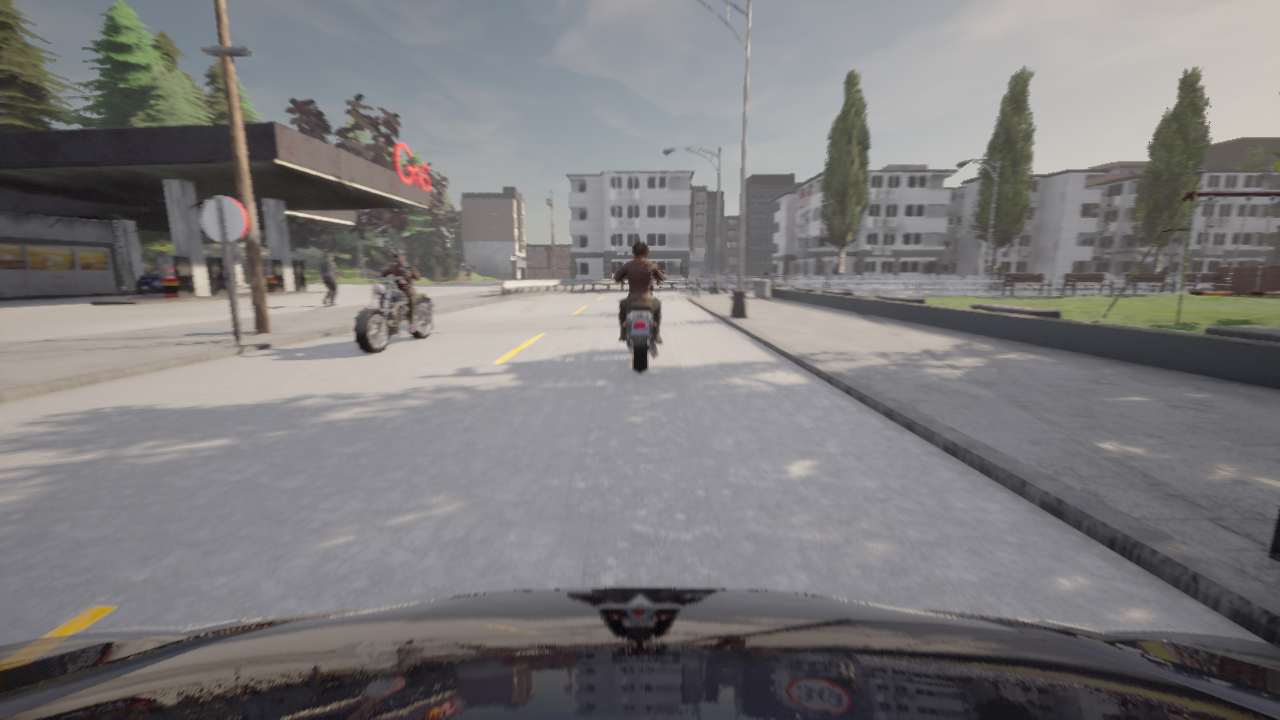cyclist: (0, 588, 1279, 719), (352, 268, 433, 354), (615, 269, 666, 372), (135, 270, 162, 295), (1149, 273, 1175, 292), (986, 274, 1010, 288), (697, 270, 724, 278), (769, 272, 781, 289), (723, 272, 745, 278), (830, 282, 845, 288)
pedestrian: (319, 252, 342, 305), (823, 274, 825, 290)
